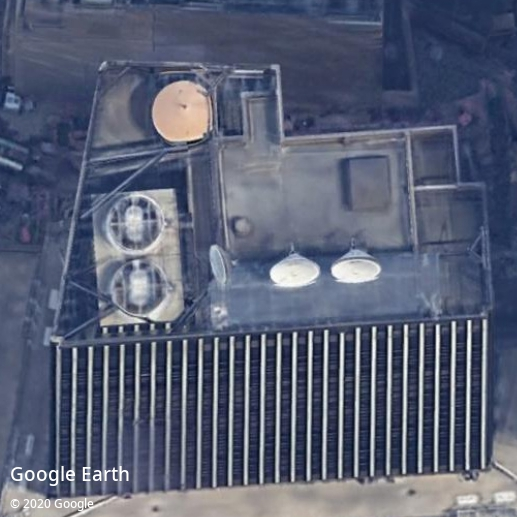Vent: (106, 193, 165, 253), (111, 259, 168, 315)
